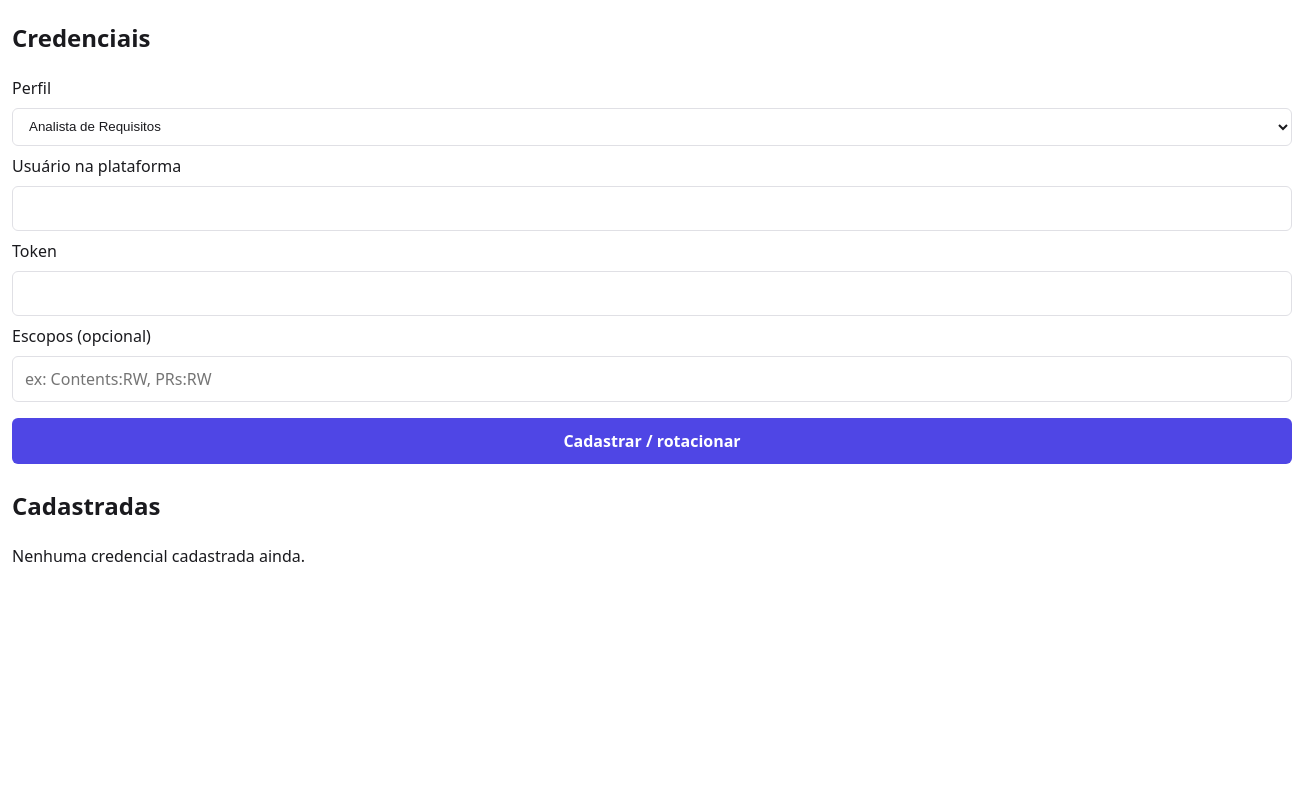
it: CredentialsPage › never sends an empty scopes field when left blank
The width and height of the screenshot is (1304, 800).
Expected: the text "Nenhuma credencial cadastrada ainda." is shown, left=12, top=545, right=305, bottom=567
In the field labelled "Usuário na plataforma": (652, 209) left=12, top=186, right=1292, bottom=231, type "recolocarme-web"
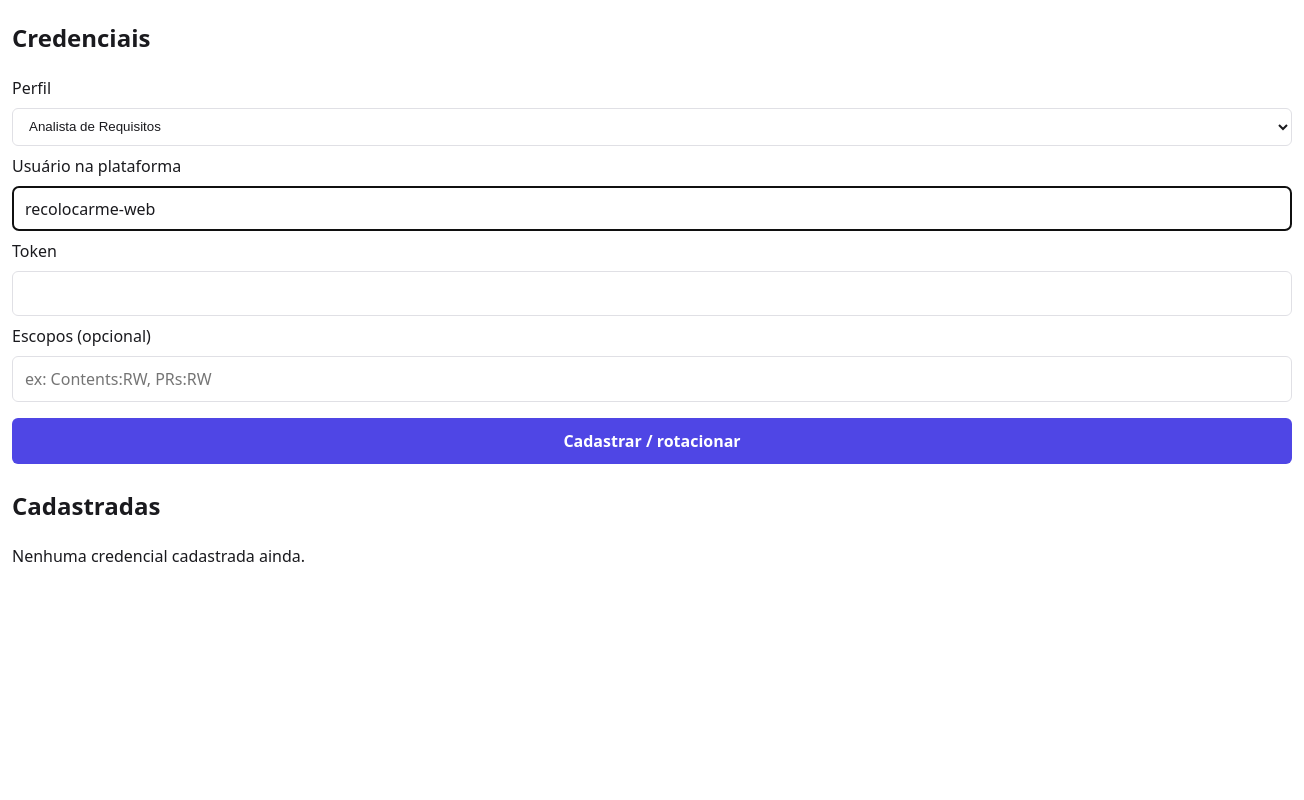
In the password field labelled "Token": (652, 294) left=12, top=271, right=1292, bottom=316, type "super-secret-token"
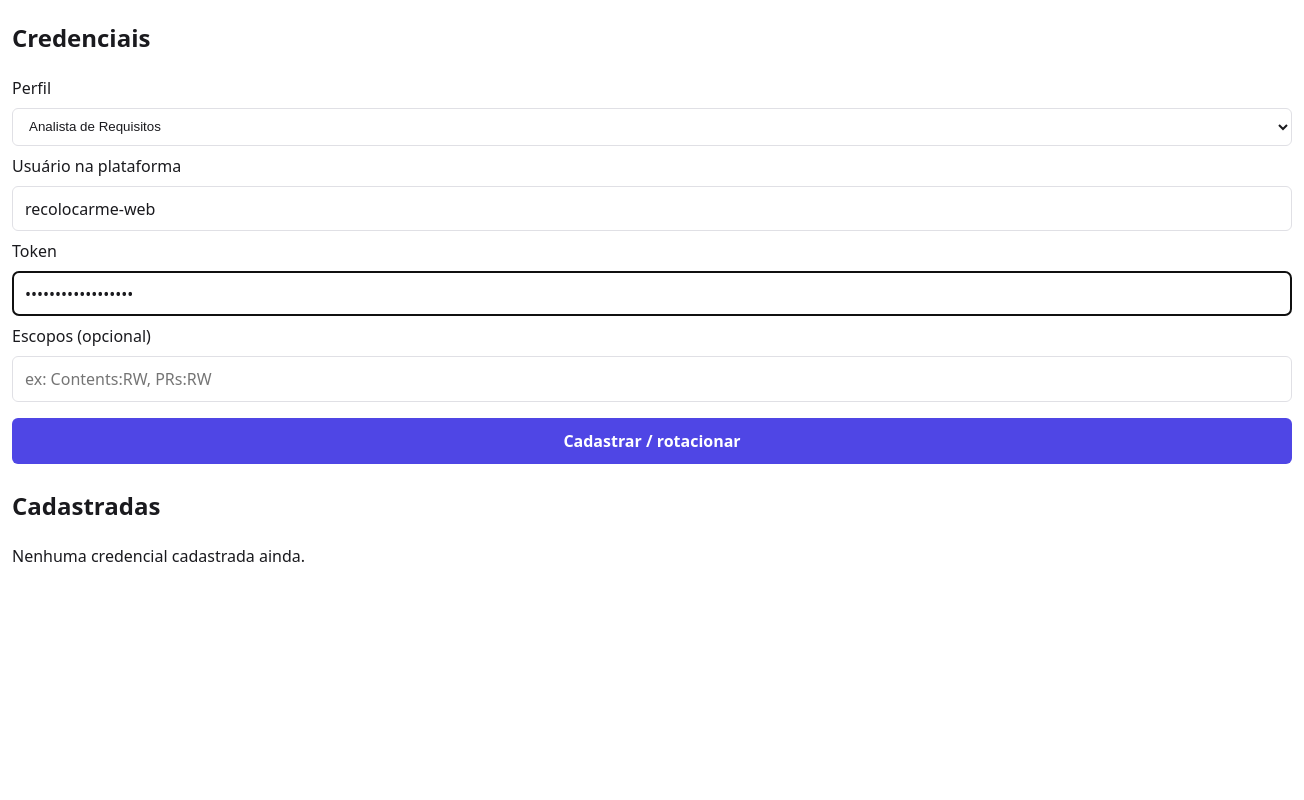
Click the button "Cadastrar / rotacionar": (652, 441) left=12, top=418, right=1292, bottom=464
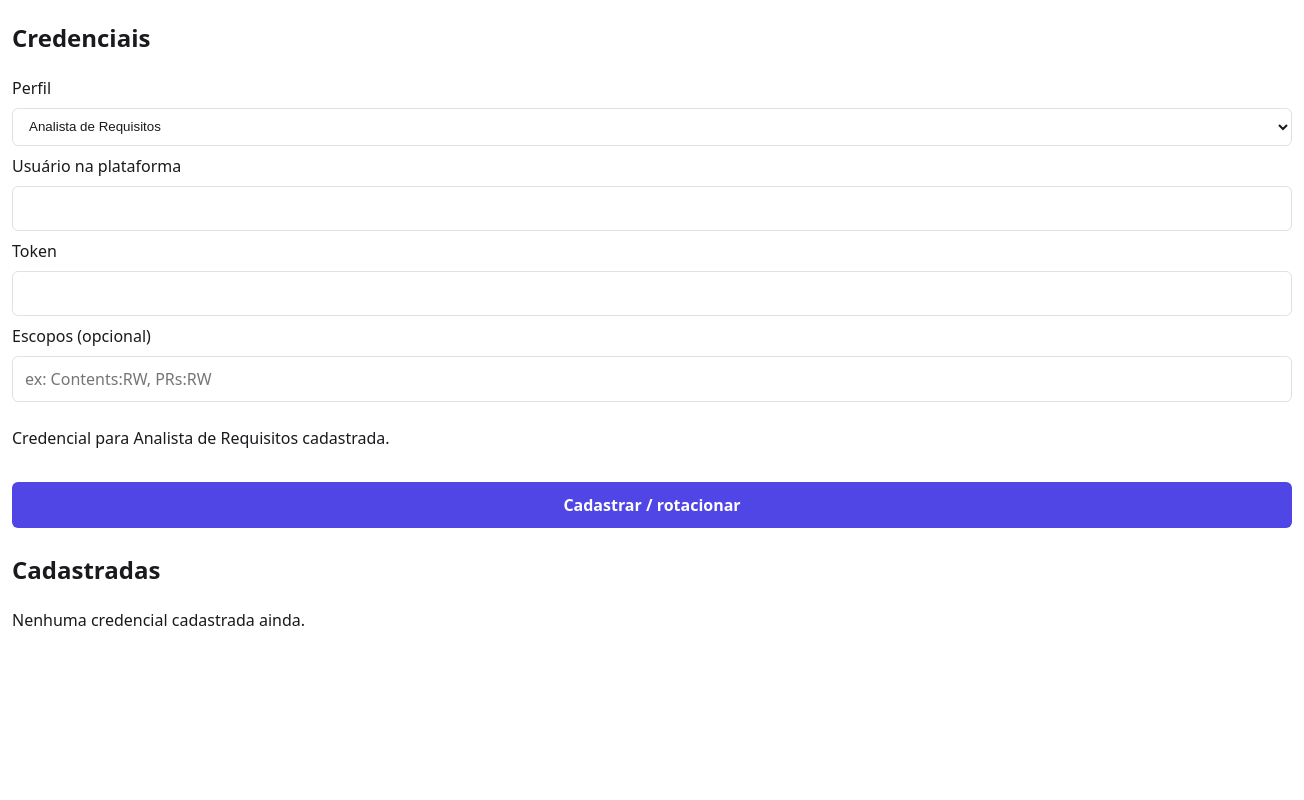
Result: the text "Credencial para Analista de Requisitos cadastrada." is shown at left=12, top=427, right=390, bottom=449
